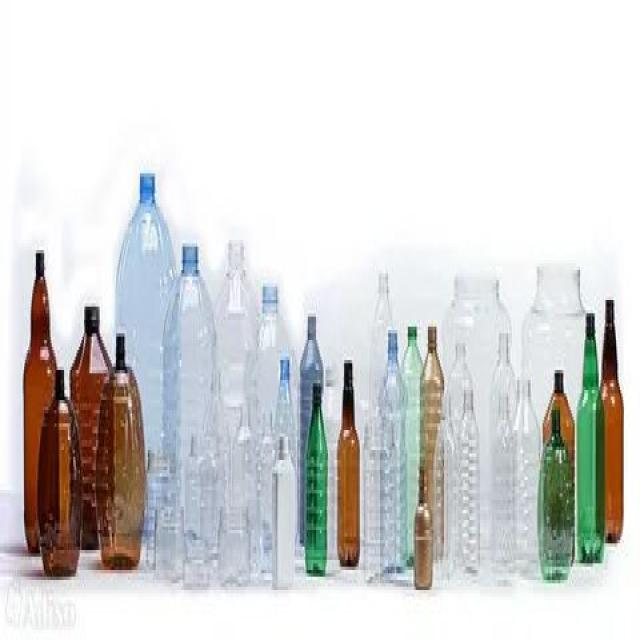brown: (98, 331, 144, 571), (38, 369, 82, 577), (602, 300, 623, 544), (24, 250, 55, 415), (337, 360, 359, 566), (68, 302, 111, 404)
green: (578, 314, 604, 564), (538, 415, 572, 575), (305, 386, 328, 577)
